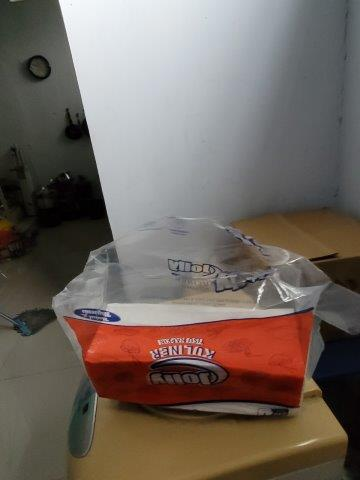plastik: (51, 218, 315, 362)
